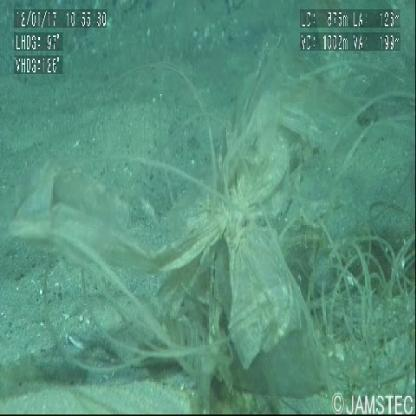Rác: (7, 95, 415, 392)
